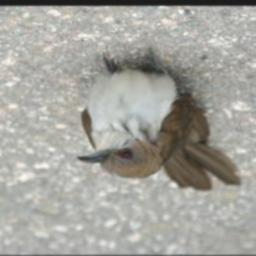Cuckoo: (75, 46, 243, 193)
